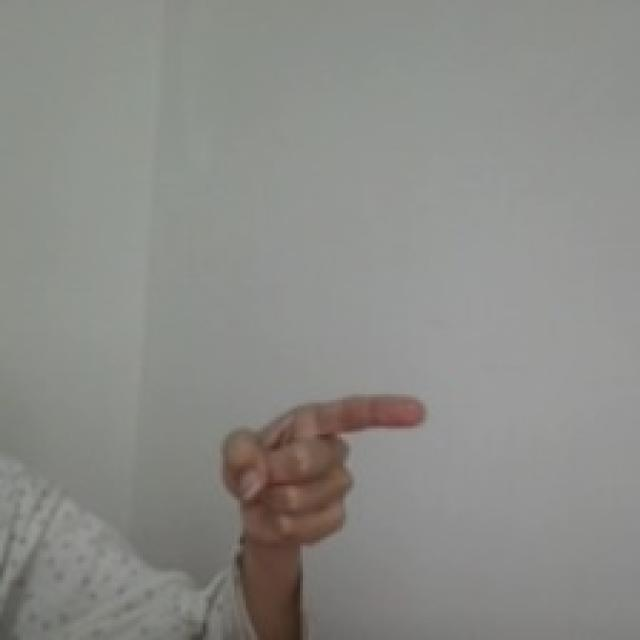you: (214, 386, 438, 559)
